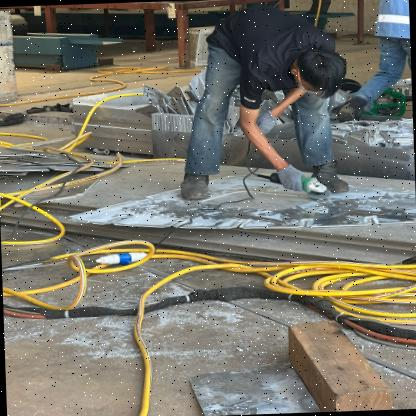bota: (175, 164, 212, 202), (310, 160, 350, 194)
